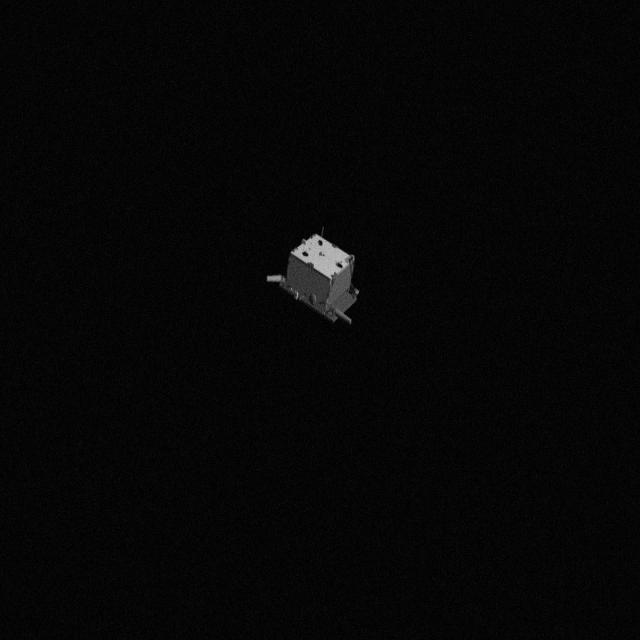medium_debris: (264, 220, 368, 332)
